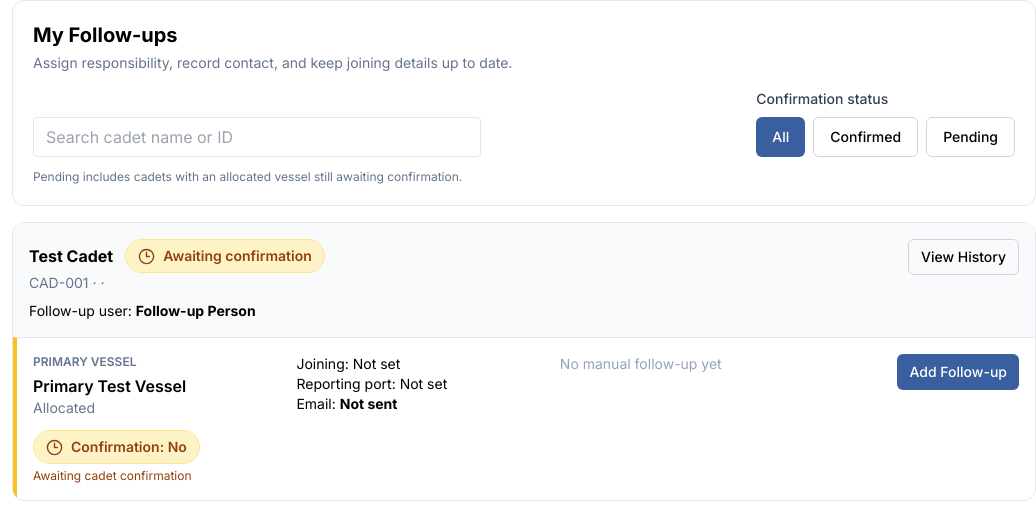
Scenario: keeps the latest confirmation filter when an older response arrives late
The image size is (1036, 518).
Click the button "Confirmed".
click(866, 137)  # box [813,117,918,157]
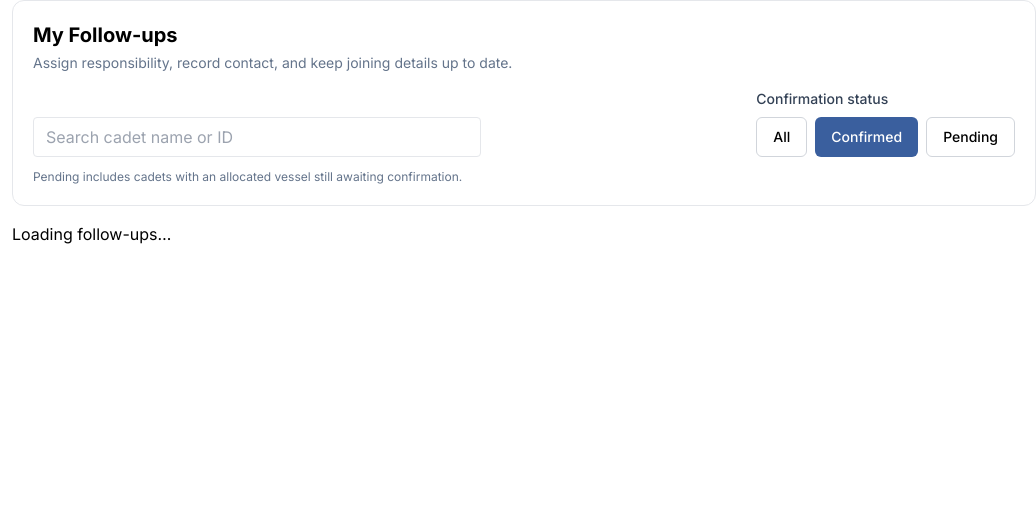
Click the button "Pending".
click(971, 137)  # box [926,117,1015,157]
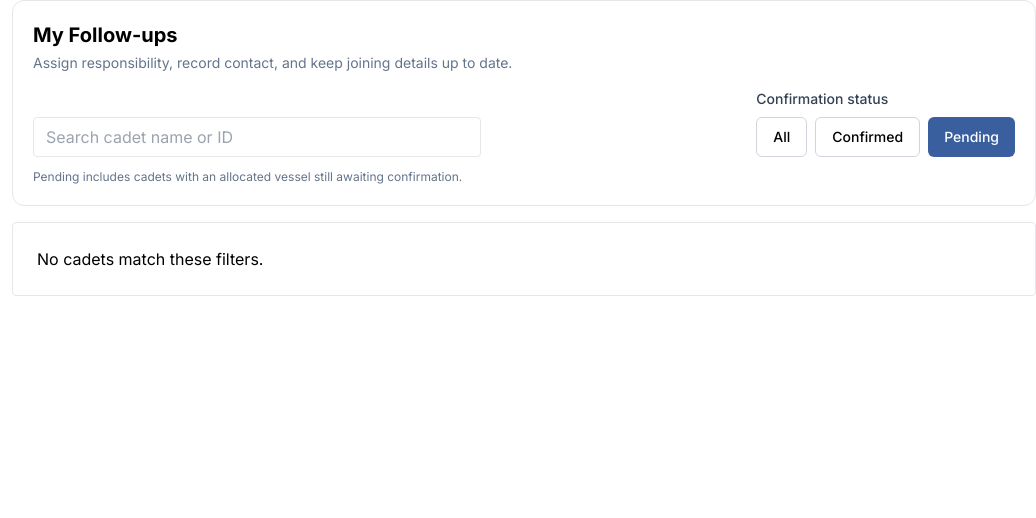
expect the heading "Test Cadet" is not shown: met
expect the text "No cadets match these filters." is shown: met, box [12,222,1035,296]
